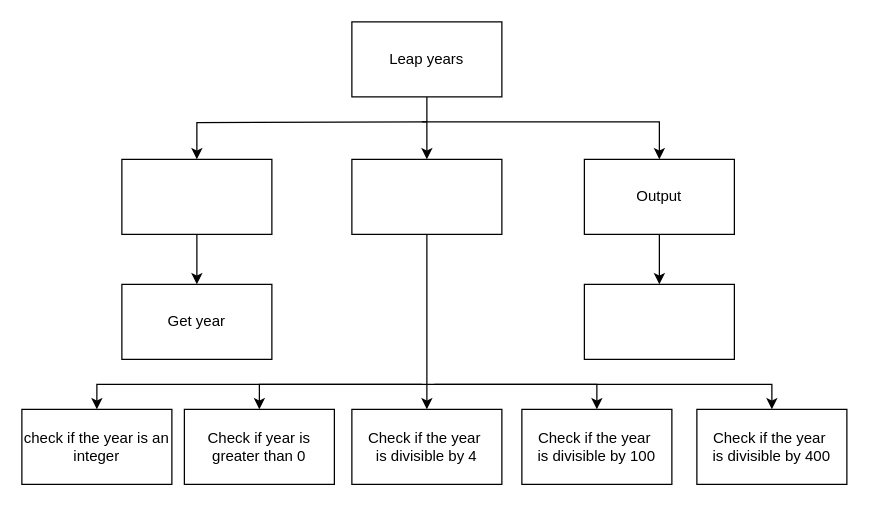
Some shapes in this 869 by 506 pixel diagram are drawn without their labels. Each missing label, with the box of its shape:
Input: (121, 158, 272, 234)
Process: (351, 158, 502, 234)
Show awnser: (583, 283, 734, 359)
